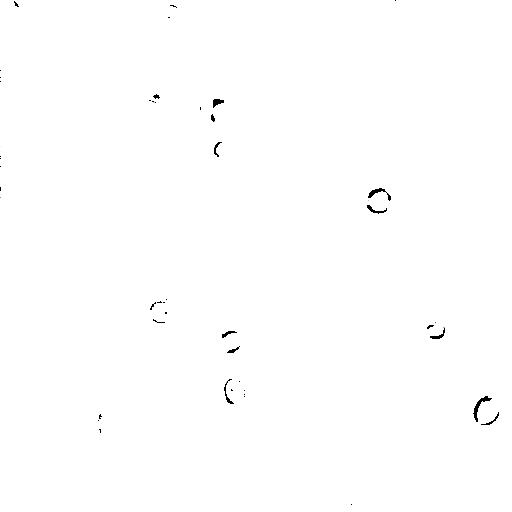micro-algae: (295, 95, 406, 205), (90, 397, 139, 444), (367, 0, 414, 32), (83, 409, 115, 445), (181, 89, 211, 125), (315, 9, 345, 41), (473, 393, 501, 426), (147, 297, 178, 324), (152, 1, 182, 28), (209, 96, 236, 126), (329, 481, 355, 511), (364, 186, 392, 213), (223, 375, 245, 406), (211, 136, 238, 160), (219, 329, 243, 355), (421, 318, 447, 341), (375, 0, 403, 15), (126, 499, 157, 511), (11, 0, 36, 10)
